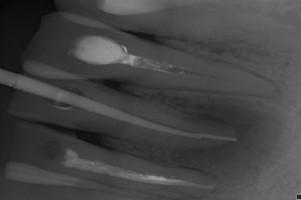Furcation Involvement: (174, 99, 283, 188)
